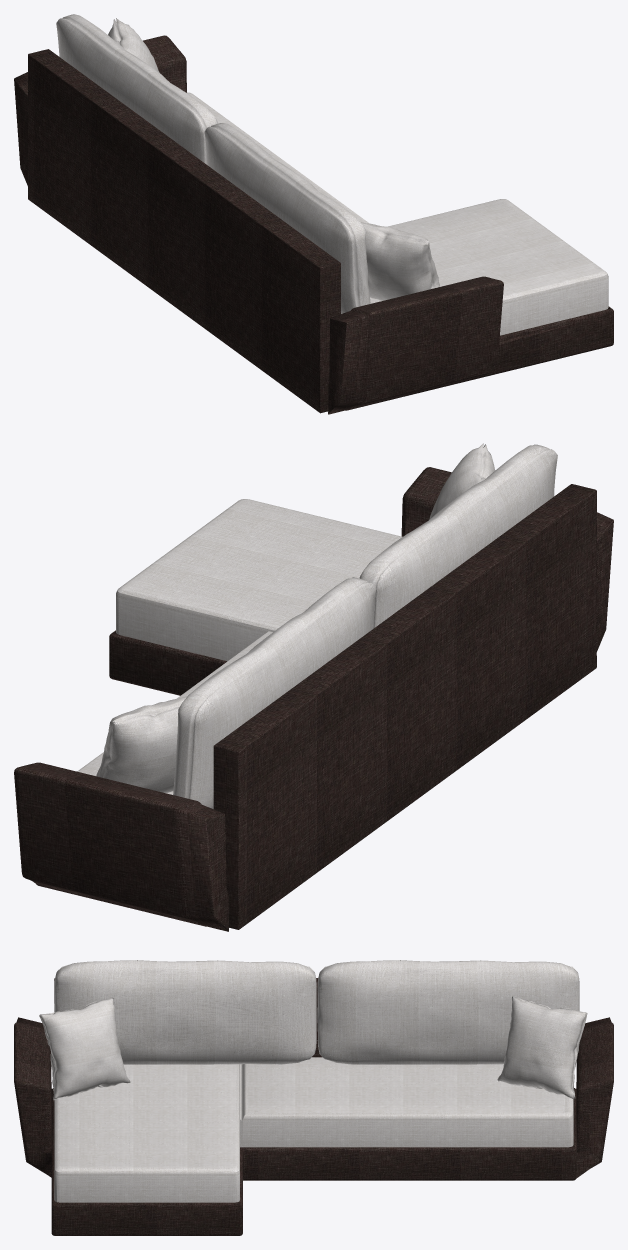
The model's file is couch.fbx.
The picture shows the model from 3 angles, top to bottom: view 1: azimuth 30°, elevation 25°; view 2: azimuth 150°, elevation 25°; view 3: azimuth 270°, elevation 25°; orthographic projection. The views are drawn at different scales.
Parts seen in each view (by area): view 1: Cube, Cube.001, Cube.006, Cube.002, Cube.003, Cube.004, Cube.005; view 2: Cube, Cube.001, Cube.006, Cube.003, Cube.005, Cube.002, Cube.004; view 3: Cube.001, Cube, Cube.006, Cube.003, Cube.002, Cube.005, Cube.004.
Boxes of the visible parts, x1=… form: Cube: x1=14, y1=35, x2=613, y2=414; Cube.001: x1=186, y1=92, x2=608, y2=335; Cube.006: x1=56, y1=14, x2=217, y2=164; Cube.002: x1=206, y1=125, x2=370, y2=313; Cube.003: x1=204, y1=123, x2=369, y2=303; Cube.004: x1=361, y1=222, x2=439, y2=300; Cube.005: x1=108, y1=18, x2=159, y2=72; Cube: x1=14, y1=467, x2=613, y2=931; Cube.001: x1=77, y1=499, x2=402, y2=794; Cube.006: x1=173, y1=577, x2=376, y2=808; Cube.003: x1=359, y1=444, x2=555, y2=628; Cube.005: x1=96, y1=696, x2=187, y2=792; Cube.002: x1=373, y1=446, x2=557, y2=614; Cube.004: x1=429, y1=443, x2=494, y2=519; Cube.001: x1=54, y1=1057, x2=573, y2=1202; Cube: x1=14, y1=978, x2=613, y2=1235; Cube.006: x1=317, y1=960, x2=579, y2=1064; Cube.003: x1=57, y1=960, x2=316, y2=1060; Cube.002: x1=54, y1=967, x2=315, y2=1064; Cube.005: x1=496, y1=996, x2=587, y2=1099; Cube.004: x1=39, y1=997, x2=130, y2=1100.
Size of the model in its own units: 633 by 400 by 1263.
